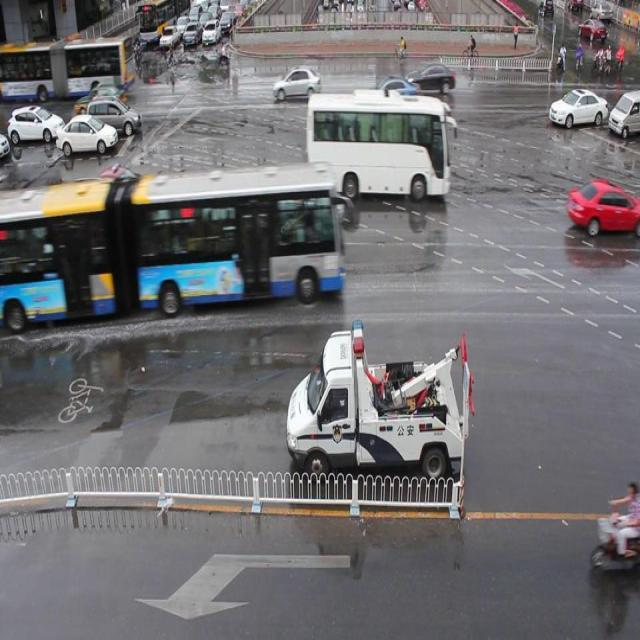car: (566, 179, 640, 237), (276, 177, 343, 231), (546, 85, 607, 127), (272, 67, 321, 102), (367, 76, 419, 108), (406, 64, 454, 92)
van: (1, 172, 340, 304), (308, 94, 448, 198)
